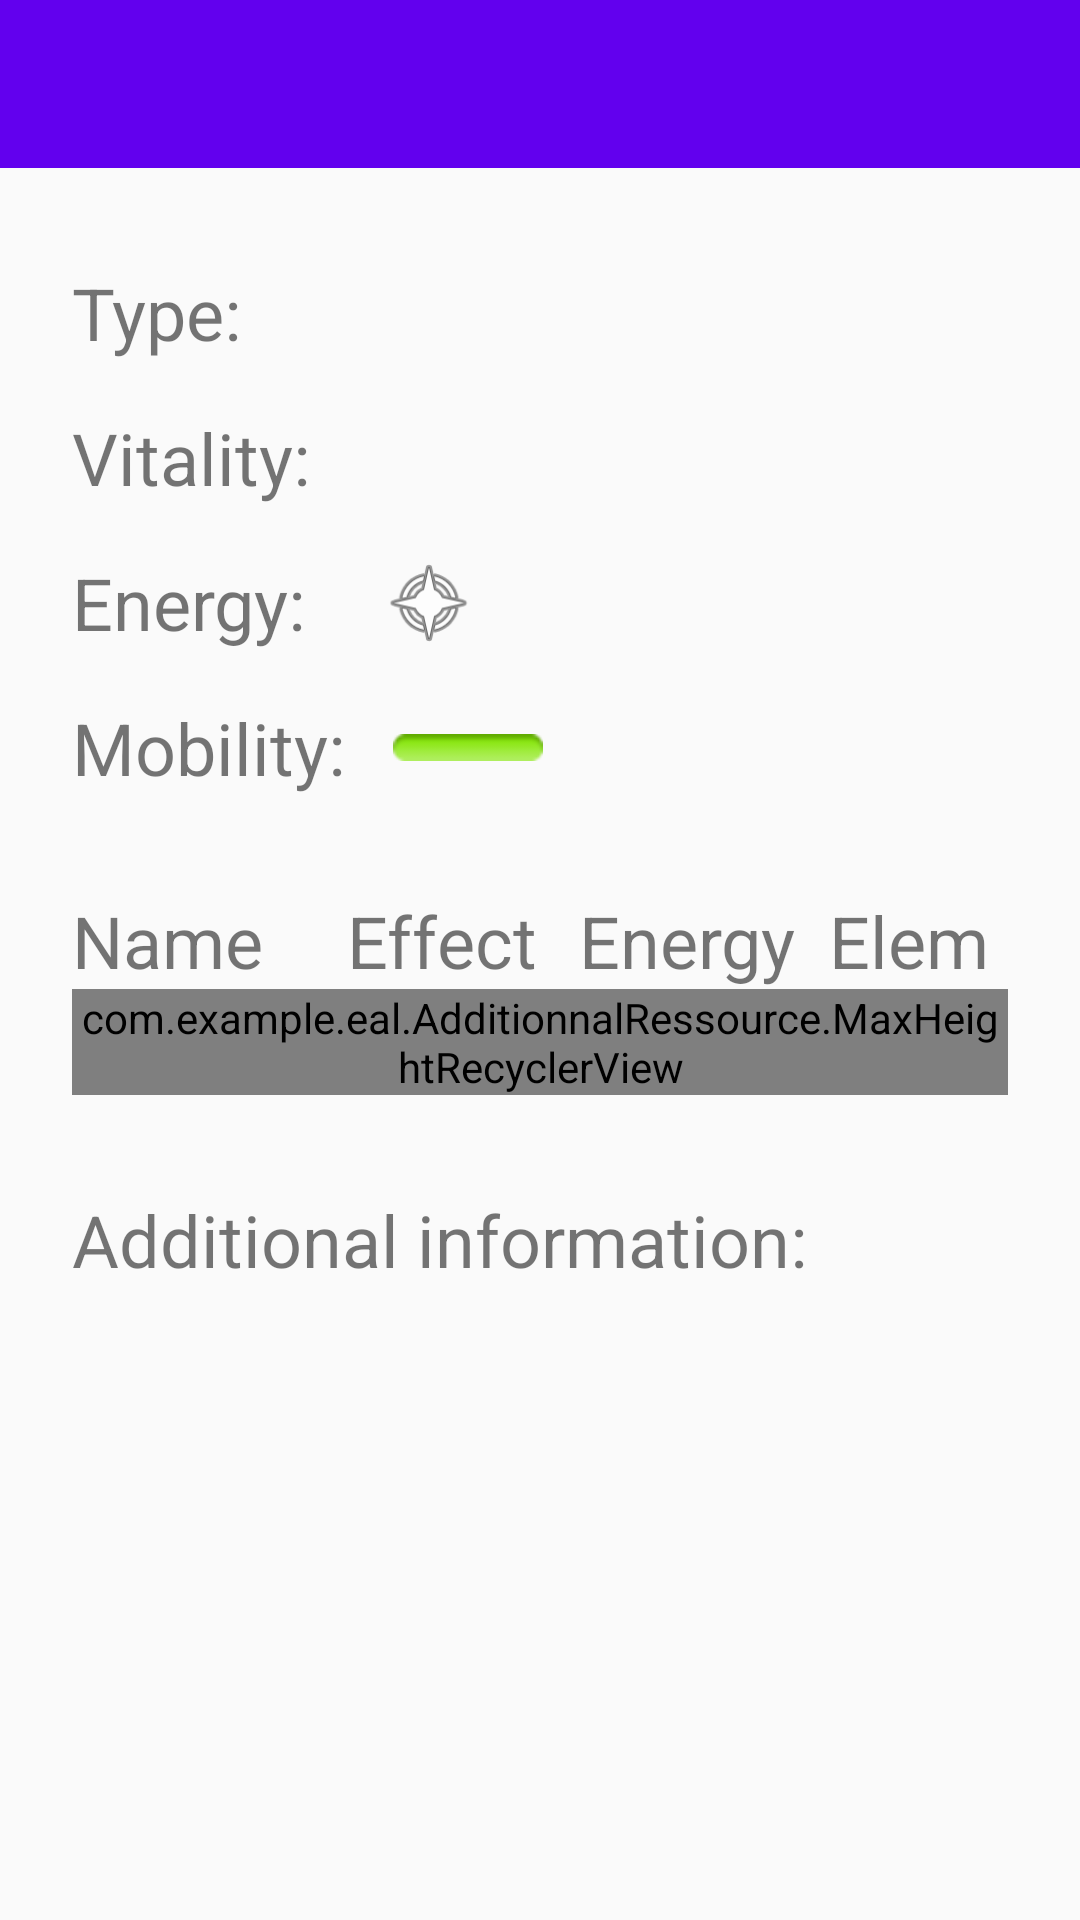

Icon bounding boxes for this 1080px x 1920px phone screenshot, format (x1, y1, x2, y2):
compass: (390, 565, 467, 641)
onoff indicator on: (393, 734, 543, 761)
